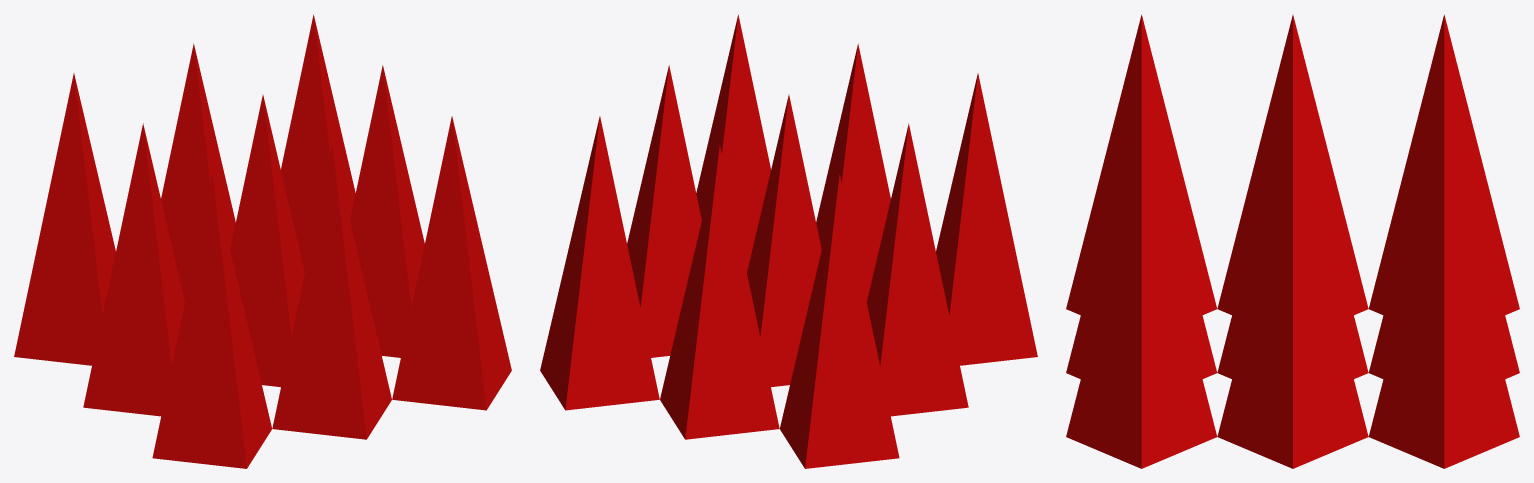
Rendered from spikes.fbx.
3 views of the same model, side by side, from view 1: azimuth 30°, elevation 25°; view 2: azimuth 150°, elevation 25°; view 3: azimuth 270°, elevation 25° (orthographic). The views are drawn at different scales.
Parts seen in each view (by area): view 1: spikes; view 2: spikes; view 3: spikes.
Boxes of the visible parts, box(x1,y1,x2,y2) form: spikes: box(14, 14, 511, 468); spikes: box(540, 14, 1037, 468); spikes: box(1066, 14, 1519, 468).
Bounding box in the file's own units: 6 × 4.3 × 6.
